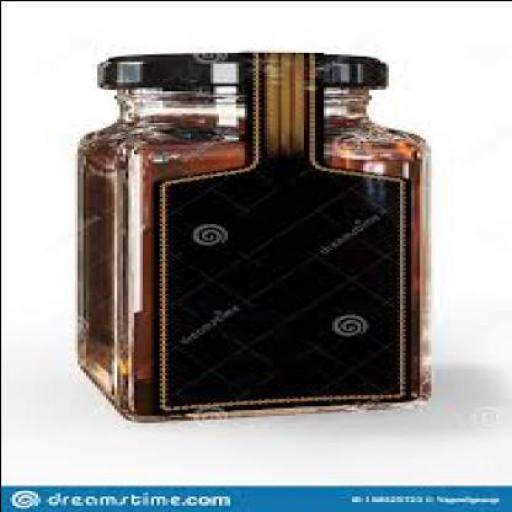glass: (76, 85, 430, 420)
metal: (94, 50, 382, 87)
